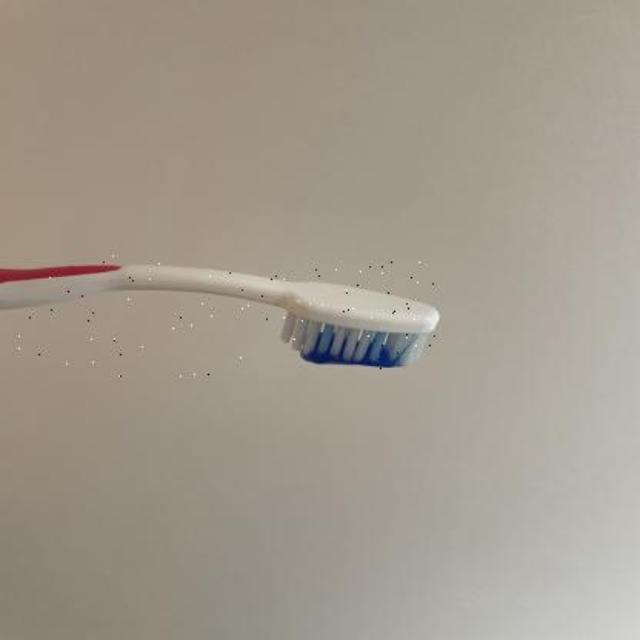toothbrush: (0, 250, 450, 378)
